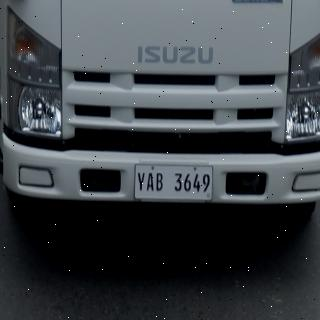license: (136, 166, 213, 202)
